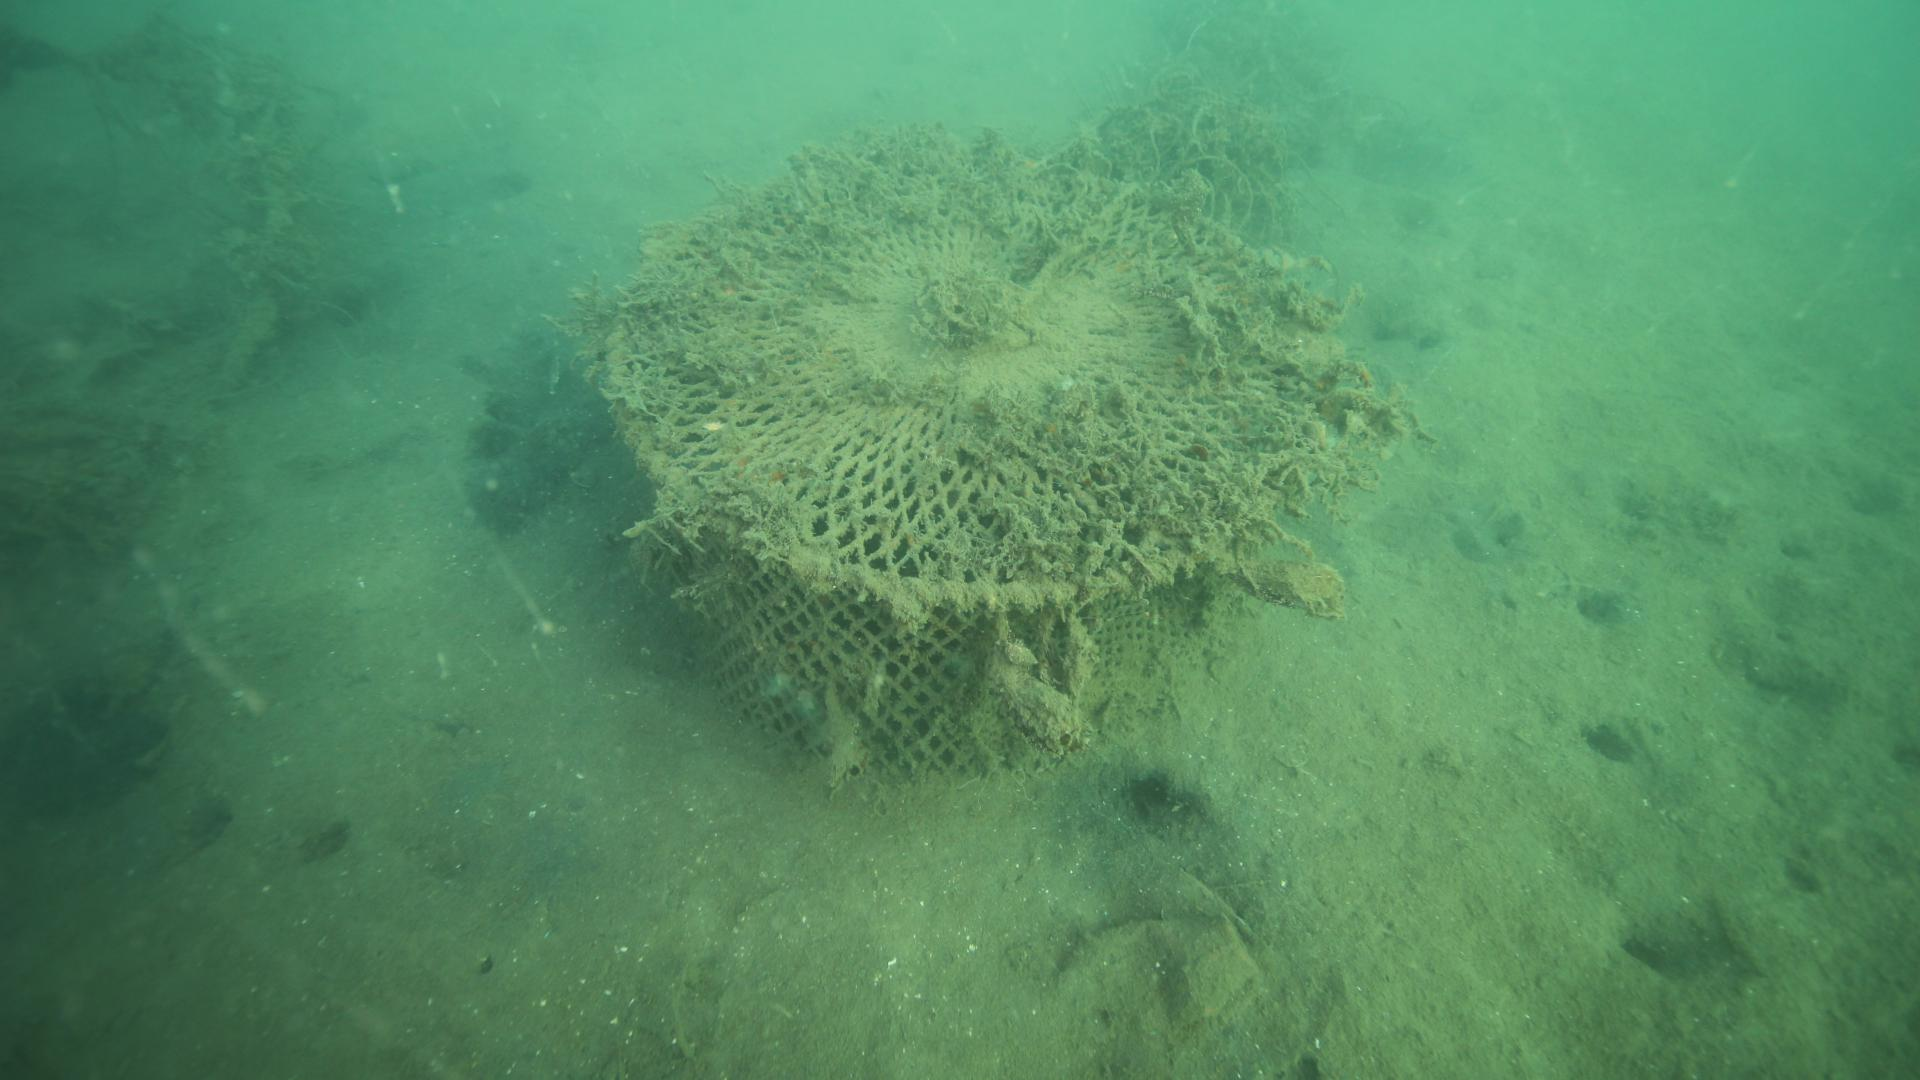circular fish trap: (595, 145, 1362, 786)
